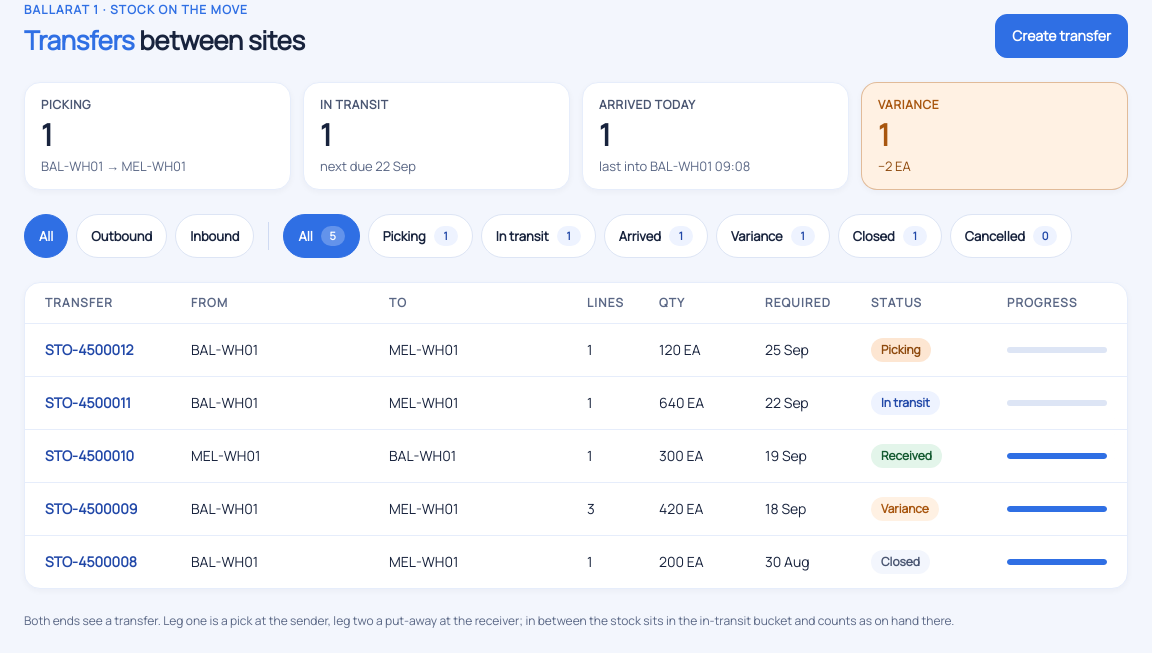
Transfers › refuses a transfer to the same warehouse
This screenshot has width=1152, height=653.
Step 1. Click the button "Create transfer" → (1062, 36), box [995, 14, 1128, 58]
(page scrolled)
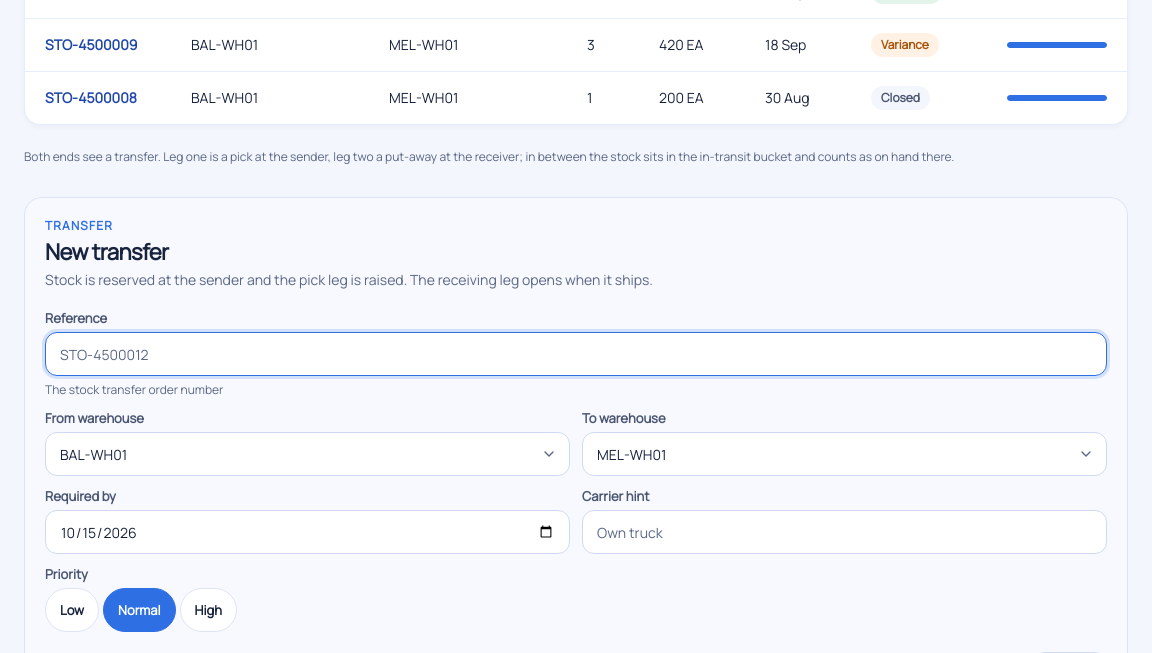
Step 2. Select "BAL-WH01" in the dropdown labelled "To warehouse" → (844, 454), box [582, 432, 1107, 476]
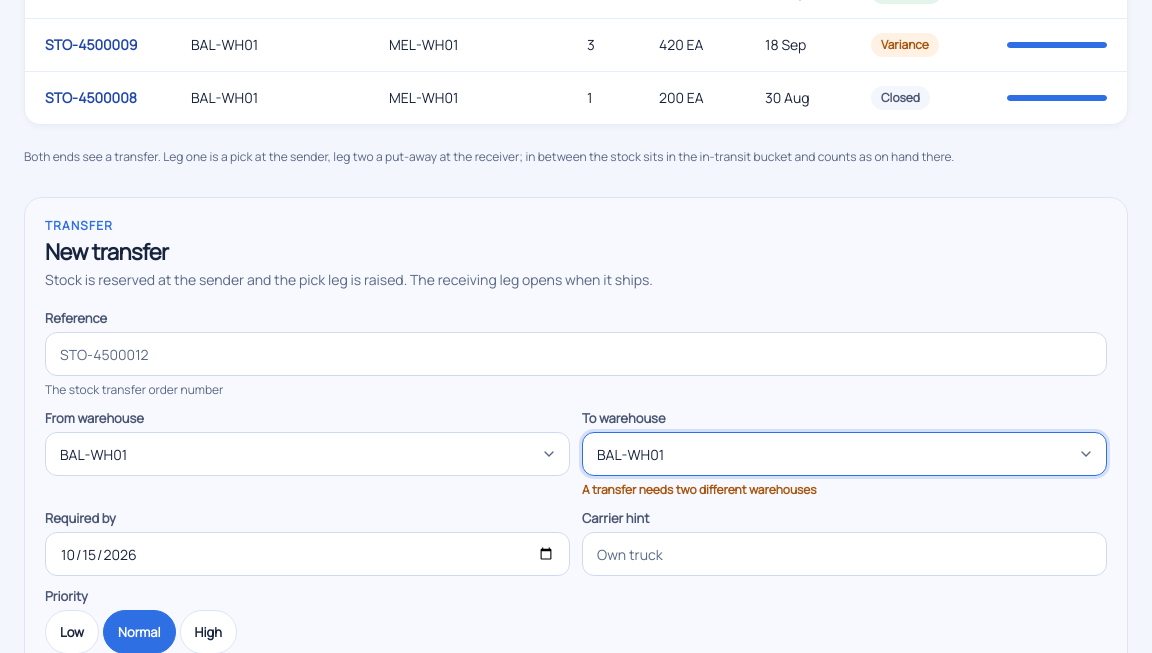
Check: the text "A transfer needs two different warehouses" is shown, box [582, 481, 817, 498]
